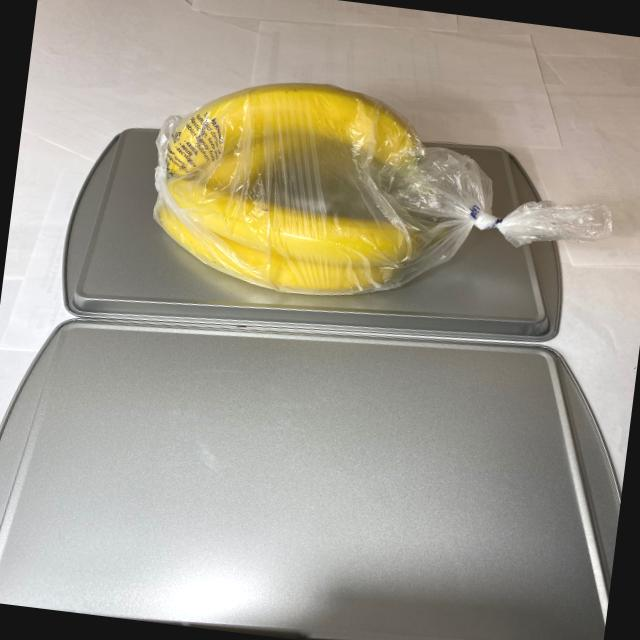banana: (110, 56, 473, 316)
